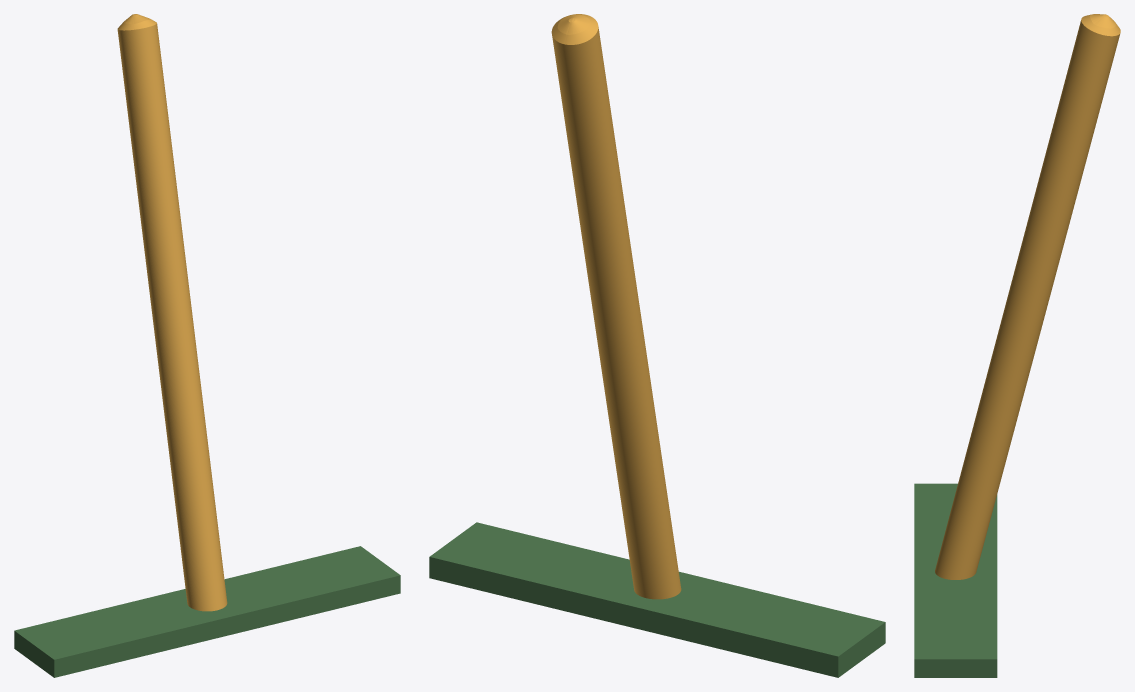
File: MopCol.glb
3 renders of one model, left to right at view 1: azimuth 30°, elevation 25°; view 2: azimuth 150°, elevation 25°; view 3: azimuth 270°, elevation 25°, orthographic. The views are drawn at different scales.
Parts seen in each view (by area): view 1: Mop-convcolonly; view 2: Mop-convcolonly; view 3: Mop-convcolonly.
Boxes of the visible parts, x1,y1,x2,y2 form: Mop-convcolonly: (14, 14, 400, 677); Mop-convcolonly: (429, 14, 885, 677); Mop-convcolonly: (914, 14, 1120, 677).
Bounding box in the file's own units: 10 × 15.28 × 4.98.
